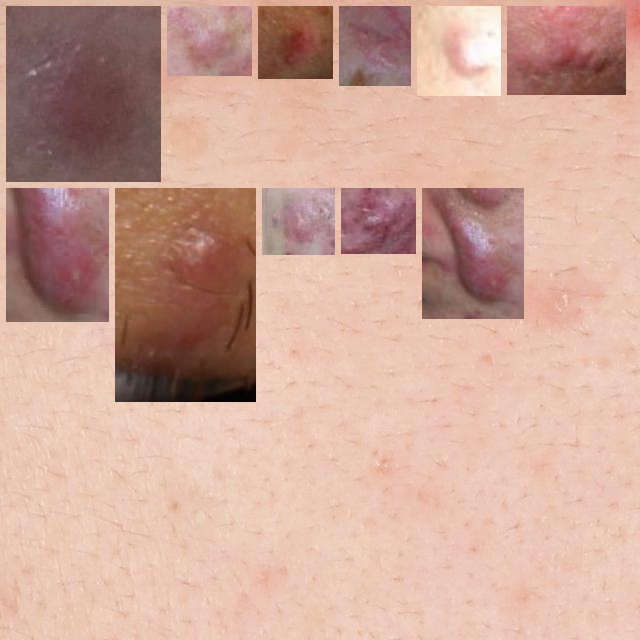nodule: (123, 196, 248, 394), (14, 14, 153, 174), (14, 196, 101, 314), (430, 196, 516, 311), (515, 14, 618, 87), (425, 14, 493, 88), (175, 14, 244, 68), (347, 14, 403, 78), (266, 14, 325, 71), (349, 196, 408, 246), (270, 196, 327, 247)
